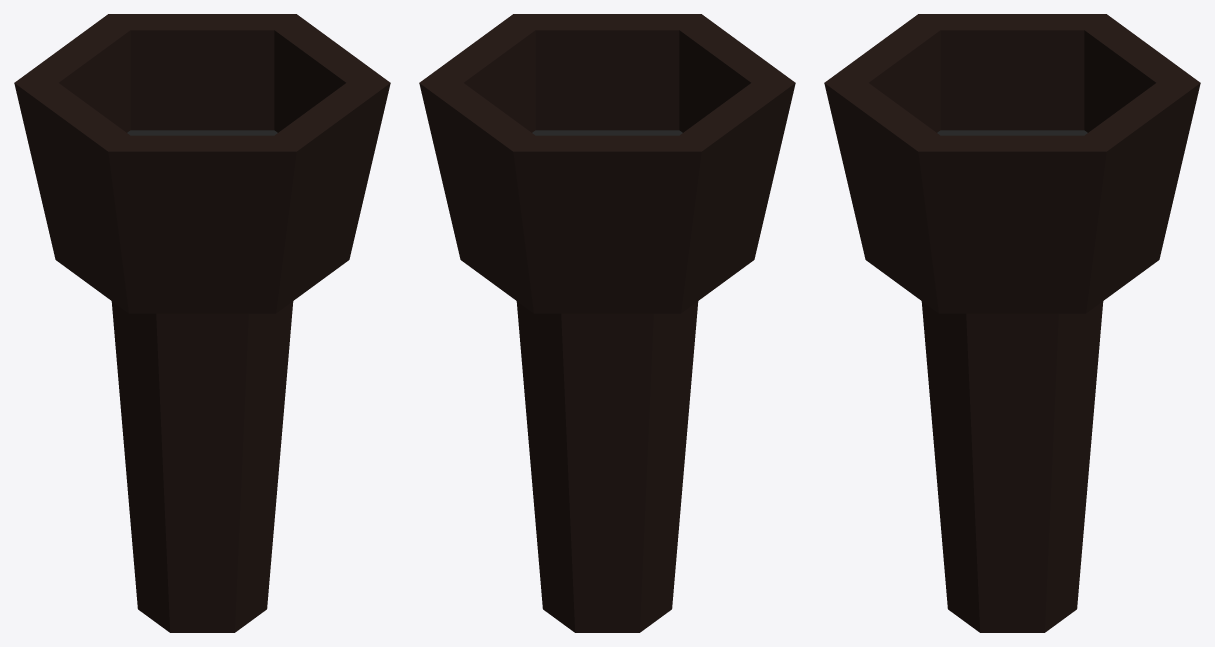
Rendered from Tocha.fbx.
3 renders of one model, left to right at view 1: azimuth 30°, elevation 25°; view 2: azimuth 150°, elevation 25°; view 3: azimuth 270°, elevation 25°, orthographic.
Parts seen in each view (by area): view 1: Doctor.001; view 2: Doctor.001; view 3: Doctor.001.
Part boxes in pixels (left/top/right/bottom): Doctor.001: left=14, top=14, right=390, bottom=632; Doctor.001: left=419, top=14, right=795, bottom=632; Doctor.001: left=824, top=14, right=1200, bottom=632.
Bounding box in the file's own units: 13.55 × 24.15 × 15.65.
